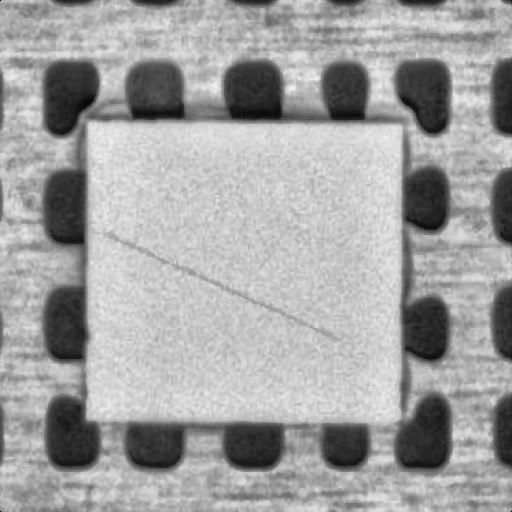DIE_CRACK: (137, 174, 448, 254)
